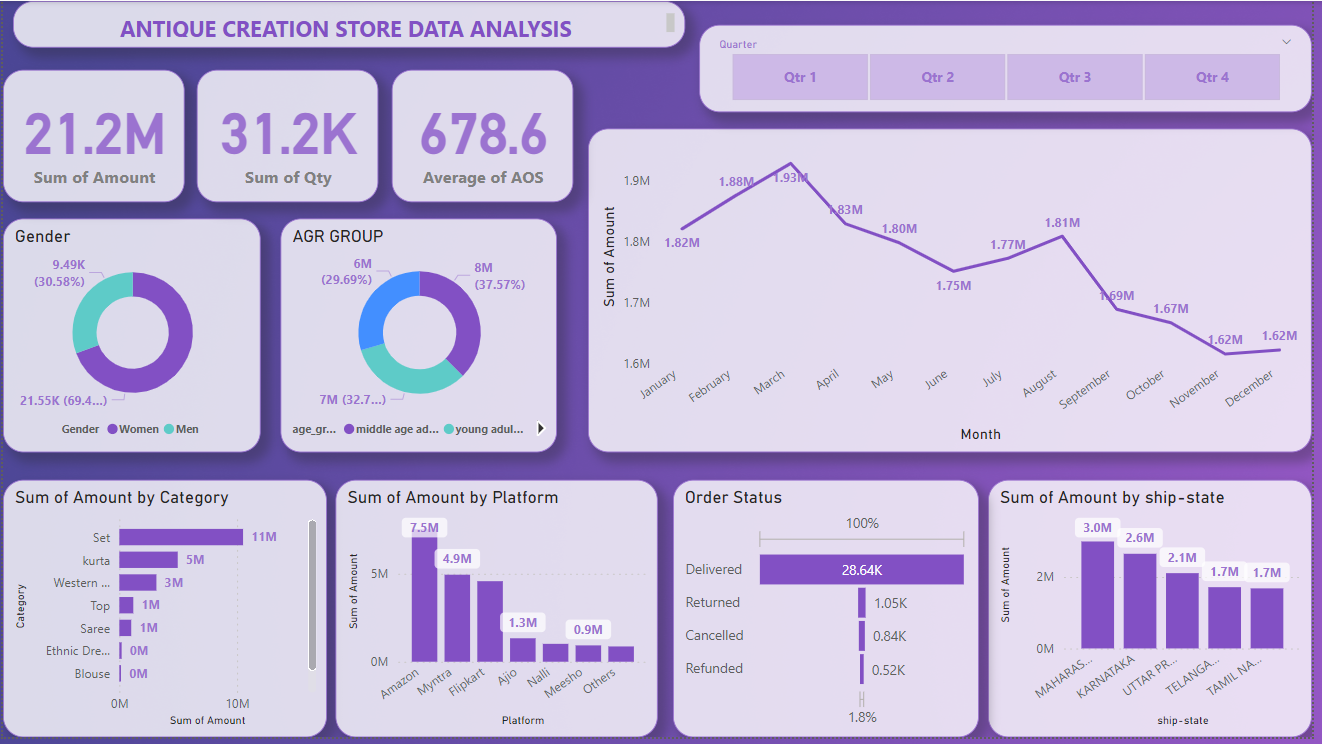

What the dashboard file says about the page in this screenshot:
{"tool":"powerbi","page":{"name":"Page 1","canvas":[1280,720],"ordinal":0},"visuals":[{"type":"textbox","box":[9.8,0,657.7,45.2],"z":0},{"type":"lineChart","title":"Amount by Quarter","fields":{"Category":["Antique Store.Date.Variation.Date Hierarchy.Year","Antique Store.Date.Variation.Date Hierarchy.Quarter","Antique Store.Date.Variation.Date Hierarchy.Month"],"Y":["Sum(Antique Store.Amount)"]},"box":[572.1,124.7,707.8,316.6],"z":1000},{"type":"donutChart","title":"Gender","fields":{"Category":["Antique Store.Gender"],"Y":["CountNonNull(Antique Store.Gender)"]},"box":[0,212.7,251.8,228.6],"z":2000},{"type":"card","fields":{"Values":["Sum(Antique Store.Amount)"]},"box":[0,67.2,177.2,129.6],"z":3000},{"type":"card","fields":{"Values":["Sum(Antique Store.Qty)"]},"box":[189.5,67.2,177.2,129.6],"z":4000},{"type":"card","title":"AVG ORDER VELUE","fields":{"Values":["Avg(Antique Store.AVG)"]},"box":[380.2,67.2,177.2,129.6],"z":5000},{"type":"slicer","fields":{"Values":["Antique Store.Date.Variation.Date Hierarchy.Quarter"]},"box":[680.9,23.2,599,85.6],"z":6000},{"type":"donutChart","title":"AGR GROUP","fields":{"Category":["Antique Store.age_group"],"Y":["Sum(Antique Store.Amount)"]},"box":[271.4,212.7,270.2,228.6],"z":7000},{"type":"barChart","fields":{"Category":["Antique Store.Category"],"Y":["Sum(Antique Store.Amount)"]},"box":[0,468.2,316.6,251.8],"z":8000},{"type":"lineStackedColumnComboChart","fields":{"Category":["Antique Store.Platform"],"Y":["Sum(Antique Store.Amount)"]},"box":[325.2,468.2,315.4,251.8],"z":9000},{"type":"lineClusteredColumnComboChart","fields":{"Category":["Antique Store.ship-state"],"Y":["Sum(Antique Store.Amount)"]},"box":[963.3,468.2,316.6,251.8],"z":10000},{"type":"funnel","title":"Order Status","fields":{"Category":["Antique Store.Status"],"Y":["CountNonNull(Antique Store.Status)"]},"box":[655.2,468.2,299.5,251.8],"z":11000}]}

Visuals, with their boxes in screenshot pixels (x1, y1, x2, y2), scaled from the page's 1280x720 canvas onto the 1322x744 screenshot:
textbox: (x1=10, y1=0, x2=689, y2=47)
"Amount by Quarter" lineChart: (x1=591, y1=129, x2=1321, y2=456)
"Gender" donutChart: (x1=0, y1=220, x2=260, y2=456)
card - Sum(Antique Store.Amount): (x1=0, y1=69, x2=183, y2=203)
card - Sum(Antique Store.Qty): (x1=196, y1=69, x2=379, y2=203)
"AVG ORDER VELUE" card: (x1=393, y1=69, x2=576, y2=203)
slicer - Antique Store.Date.Variation.Date Hierarchy.Quarter: (x1=703, y1=24, x2=1321, y2=112)
"AGR GROUP" donutChart: (x1=280, y1=220, x2=559, y2=456)
barChart - Antique Store.Category x Sum(Antique Store.Amount): (x1=0, y1=484, x2=327, y2=743)
lineStackedColumnComboChart - Antique Store.Platform x Sum(Antique Store.Amount): (x1=336, y1=484, x2=662, y2=743)
lineClusteredColumnComboChart - Antique Store.ship-state x Sum(Antique Store.Amount): (x1=995, y1=484, x2=1321, y2=743)
"Order Status" funnel: (x1=677, y1=484, x2=986, y2=743)
